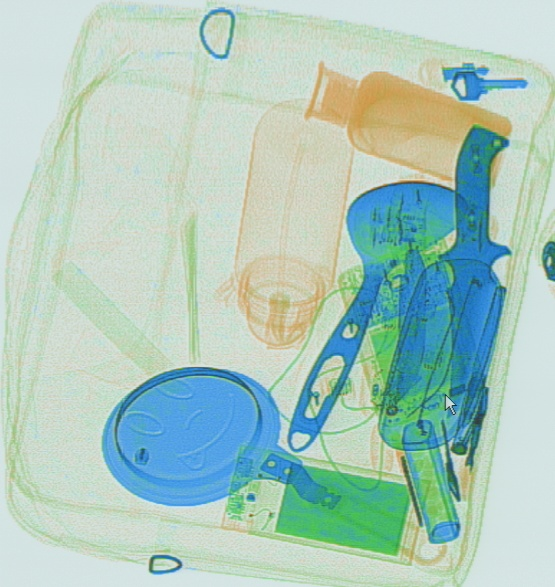knife: (436, 127, 510, 444), (383, 169, 435, 408)
